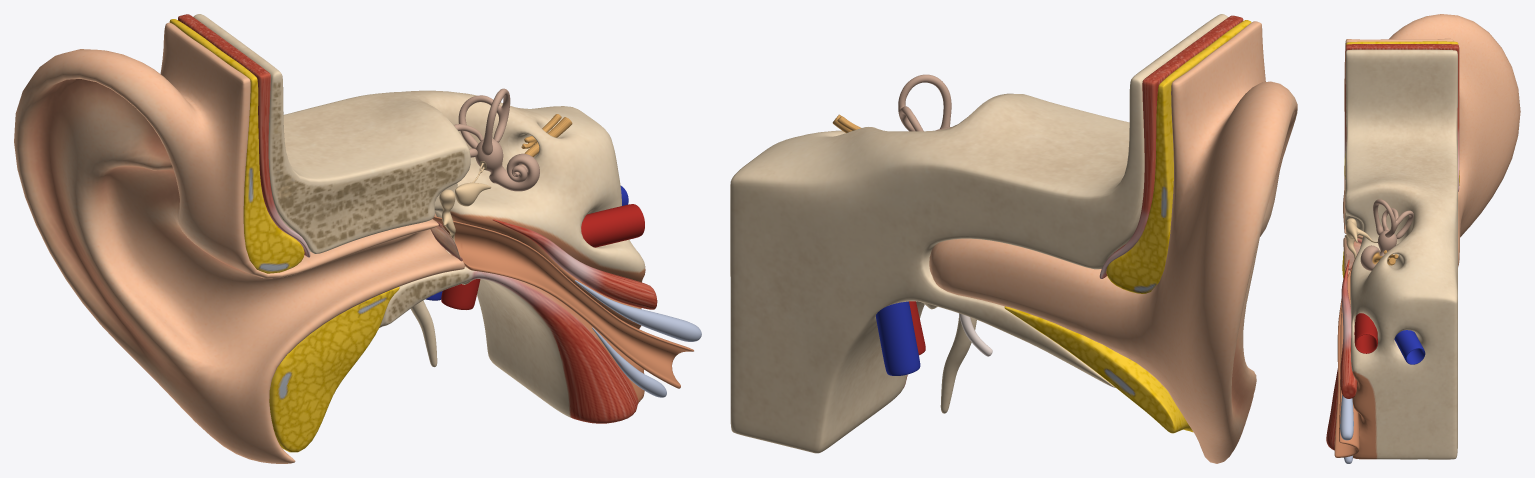
Rendered from separate bones.fbx.
The picture shows the model from 3 angles, left to right: view 1: azimuth 30°, elevation 25°; view 2: azimuth 150°, elevation 25°; view 3: azimuth 270°, elevation 25°; orthographic projection. The views are drawn at different scales.
Visible parts, largest first — view 1: auricle_pivot.001, bone_pivot, fat_bottom_pivot.001, auditory_tube_pivot, fat_top_pivot.001, snail_pivot, muscle_top_pivot.001, vein_red_pivot, muscle_pivot, nerve_pivot, nerve_botoom_pivot; view 2: bone_pivot, auricle_pivot.001, fat_top_pivot.001, fat_bottom_pivot.001, muscle_top_pivot.001, vein_blue_pivot, snail_pivot; view 3: bone_pivot, auricle_pivot.001, snail_pivot, auditory_tube_pivot, muscle_pivot, muscle_top_pivot.001, vein_red_pivot, vein_blue_pivot, nerve_pivot, fat_top_pivot.001, anvil_stirrup, eardrum.
Boxes of the visible parts, bbox=[...] form: auricle_pivot.001: bbox=[14, 22, 464, 463]; bone_pivot: bbox=[193, 14, 645, 423]; fat_bottom_pivot.001: bbox=[269, 287, 399, 452]; auditory_tube_pivot: bbox=[432, 216, 693, 388]; fat_top_pivot.001: bbox=[169, 19, 304, 273]; snail_pivot: bbox=[454, 88, 572, 191]; muscle_top_pivot.001: bbox=[178, 14, 310, 257]; vein_red_pivot: bbox=[441, 204, 644, 309]; muscle_pivot: bbox=[493, 219, 657, 309]; nerve_pivot: bbox=[574, 280, 701, 341]; nerve_botoom_pivot: bbox=[592, 327, 666, 397]; bone_pivot: bbox=[730, 14, 1227, 453]; auricle_pivot.001: bbox=[929, 21, 1297, 463]; fat_top_pivot.001: bbox=[1106, 20, 1251, 293]; fat_bottom_pivot.001: bbox=[1004, 306, 1193, 433]; muscle_top_pivot.001: bbox=[1099, 15, 1243, 278]; vein_blue_pivot: bbox=[875, 301, 920, 375]; snail_pivot: bbox=[832, 74, 951, 132]; bone_pivot: bbox=[1326, 49, 1458, 459]; auricle_pivot.001: bbox=[1343, 14, 1520, 274]; snail_pivot: bbox=[1360, 199, 1413, 270]; auditory_tube_pivot: bbox=[1334, 267, 1359, 457]; muscle_pivot: bbox=[1340, 259, 1357, 398]; muscle_top_pivot.001: bbox=[1345, 44, 1459, 191]; vein_red_pivot: bbox=[1354, 313, 1377, 353]; vein_blue_pivot: bbox=[1394, 330, 1425, 364]; nerve_pivot: bbox=[1340, 395, 1353, 440]; fat_top_pivot.001: bbox=[1344, 41, 1459, 185]; anvil_stirrup: bbox=[1346, 220, 1376, 242]; eardrum: bbox=[1345, 238, 1361, 270].
Bounding box in the file's own units: 1118 × 793 × 486.
